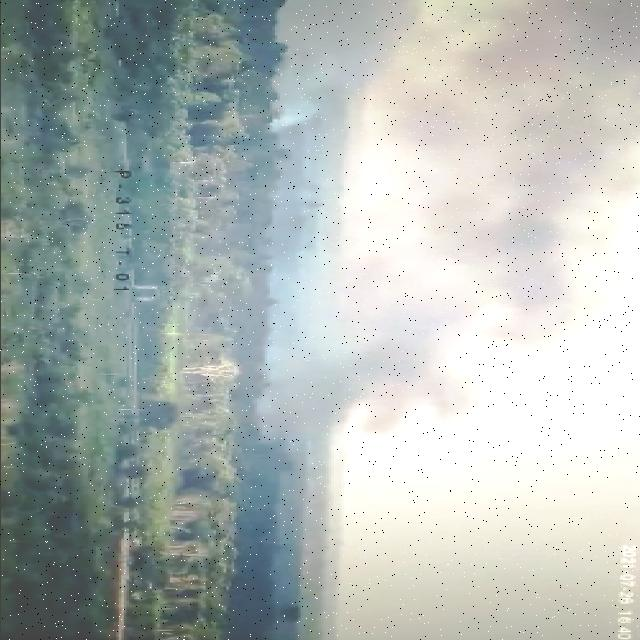asap: (242, 1, 640, 452), (257, 1, 444, 143)
